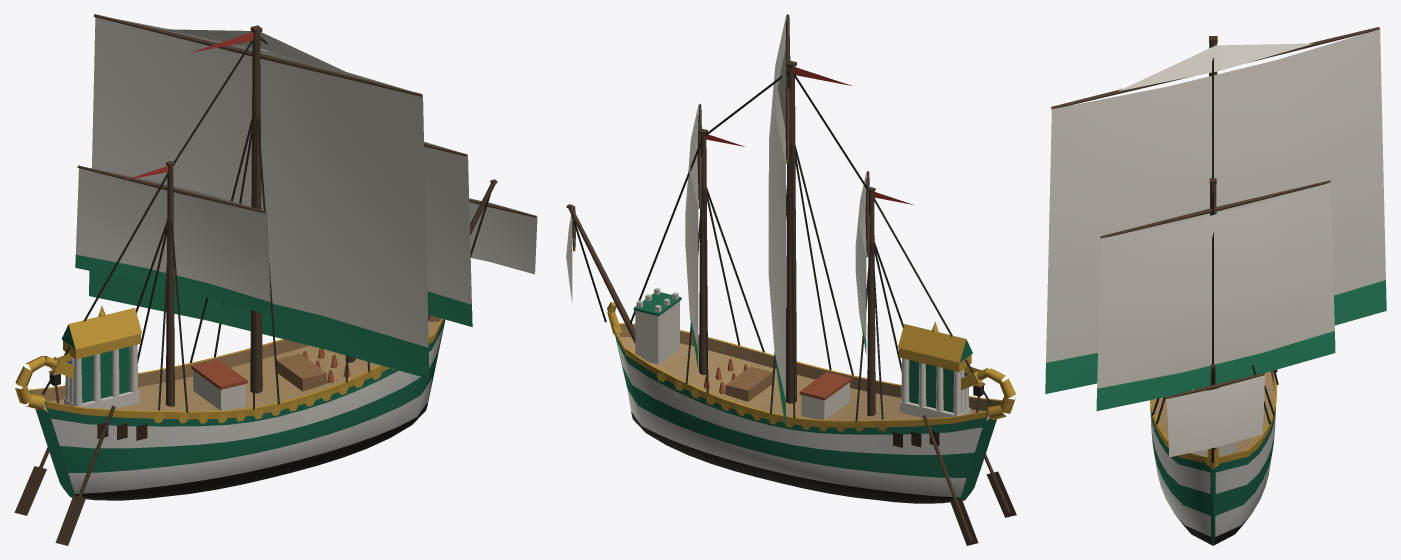
Rendered from titan_usdt.glb.
3 renders of one model, left to right at view 1: azimuth 30°, elevation 25°; view 2: azimuth 150°, elevation 25°; view 3: azimuth 270°, elevation 25°, orthographic. The views are drawn at different scales.
Parts seen in each view (by area): view 1: sail_main, hull, sail_extra, deck, mast, rigging, yards, flag; view 2: hull, deck, rigging, mast, sail_main, sail_extra, yards, flag; view 3: sail_main, sail_extra, hull, yards, rigging, mast.
Part boxes in pixels (bbox=[...]): sail_main: bbox=[89, 17, 537, 378]; hull: bbox=[15, 315, 445, 500]; sail_extra: bbox=[75, 29, 472, 327]; deck: bbox=[14, 306, 350, 545]; mast: bbox=[165, 25, 497, 406]; rigging: bbox=[42, 37, 490, 412]; yards: bbox=[77, 14, 536, 217]; flag: bbox=[50, 32, 253, 375]; hull: bbox=[607, 302, 1015, 503]; deck: bbox=[633, 287, 1016, 545]; rigging: bbox=[571, 71, 991, 421]; mast: bbox=[566, 60, 875, 416]; sail_main: bbox=[566, 17, 785, 428]; sail_extra: bbox=[685, 45, 866, 369]; yards: bbox=[572, 14, 870, 257]; flag: bbox=[705, 67, 985, 385]; sail_main: bbox=[1045, 29, 1386, 457]; sail_extra: bbox=[1096, 43, 1335, 411]; hull: bbox=[1150, 371, 1277, 545]; yards: bbox=[1051, 27, 1379, 399]; rigging: bbox=[1152, 57, 1278, 462]; mast: bbox=[1207, 36, 1219, 449].
Size of the model in its own units: 38.96 by 33.76 by 23.06.
